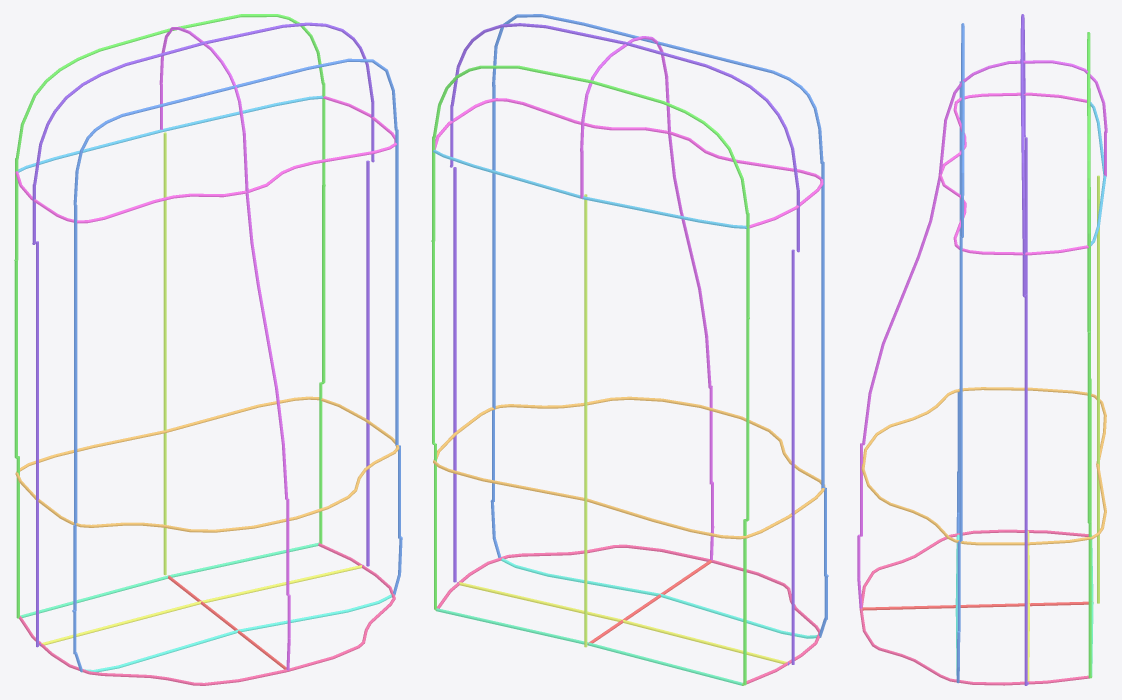
The picture shows the model from 3 angles, left to right: view 1: azimuth 30°, elevation 25°; view 2: azimuth 150°, elevation 25°; view 3: azimuth 270°, elevation 25°; orthographic projection. The views are drawn at different scales.
Size of the model in its own units: 0.5029 by 0.8063 by 0.3302.
